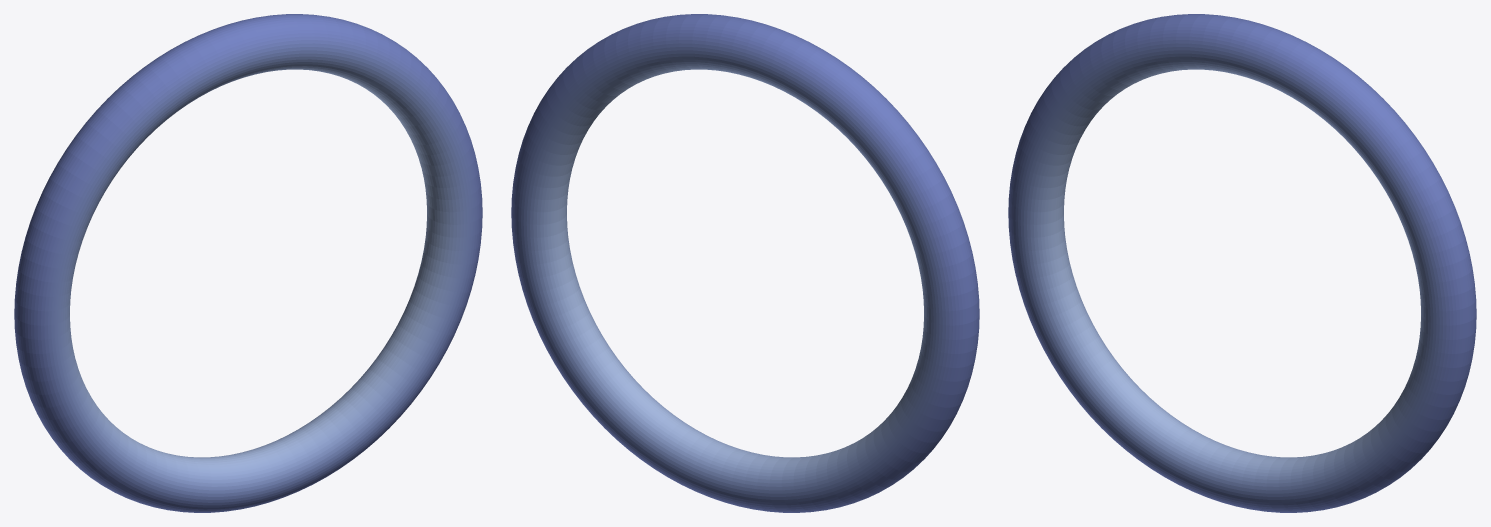
The picture shows the model from 3 angles, left to right: view 1: azimuth 30°, elevation 25°; view 2: azimuth 150°, elevation 25°; view 3: azimuth 330°, elevation 25°; orthographic projection.
Visible parts, largest first — view 1: world; view 2: world; view 3: world.
Part boxes in pixels (x1,y1,x2,y2): world: (14, 14, 482, 512); world: (511, 14, 979, 512); world: (1008, 14, 1476, 512).
Bounding box in the file's own units: 26.8 × 26.8 × 2.79.
